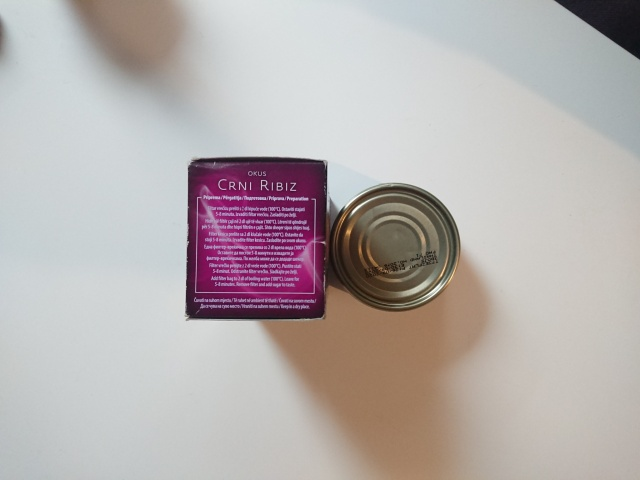Franck Black Currant Tea 60g: (182, 152, 333, 325)
Giana Tuna Salad Mexico 185g: (328, 180, 463, 314)
